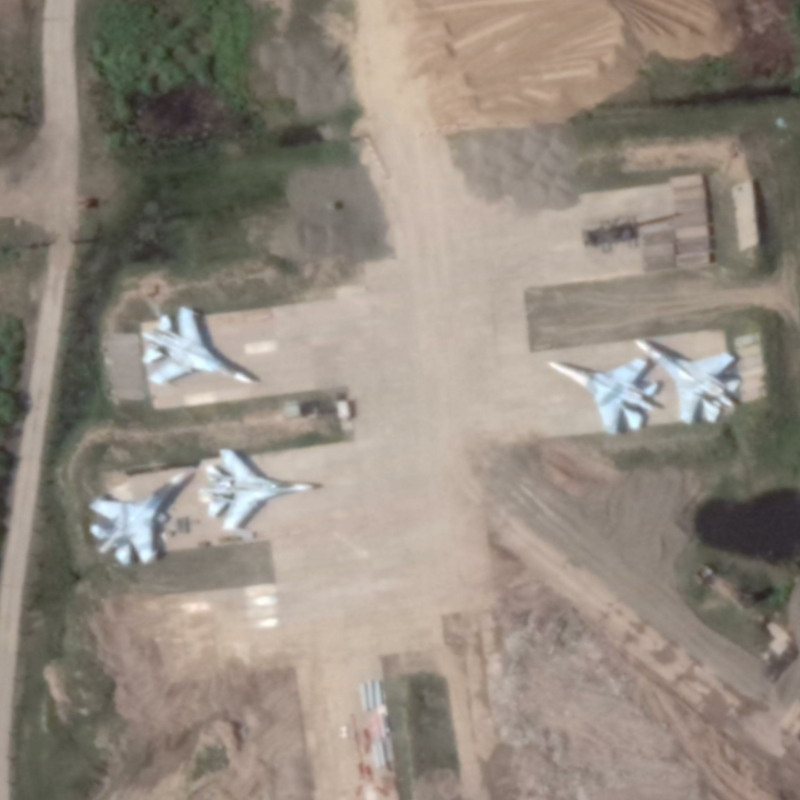A1: (196, 444, 321, 541), (85, 467, 196, 568), (138, 304, 266, 391), (628, 333, 744, 428), (542, 355, 666, 437)
